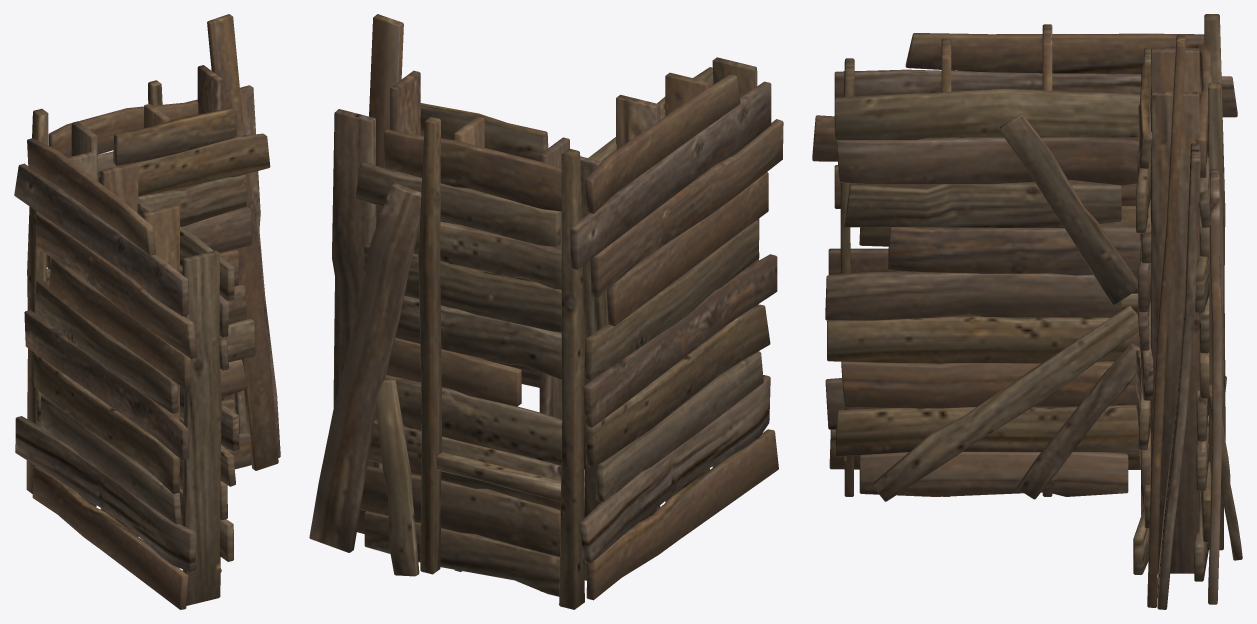
Rendered from MazeWall02.fbx.
The picture shows the model from 3 angles, left to right: view 1: azimuth 30°, elevation 25°; view 2: azimuth 150°, elevation 25°; view 3: azimuth 270°, elevation 25°; orthographic projection. The views are drawn at different scales.
Parts seen in each view (by area): view 1: SM_FAR_MazeWall_02.mo; view 2: SM_FAR_MazeWall_02.mo; view 3: SM_FAR_MazeWall_02.mo.
Boxes of the visible parts, x1,y1,x2,y2 form: SM_FAR_MazeWall_02.mo: (14, 14, 280, 609); SM_FAR_MazeWall_02.mo: (309, 14, 783, 609); SM_FAR_MazeWall_02.mo: (812, 14, 1242, 609).
Size of the model in its own units: 218 by 390 by 279.
